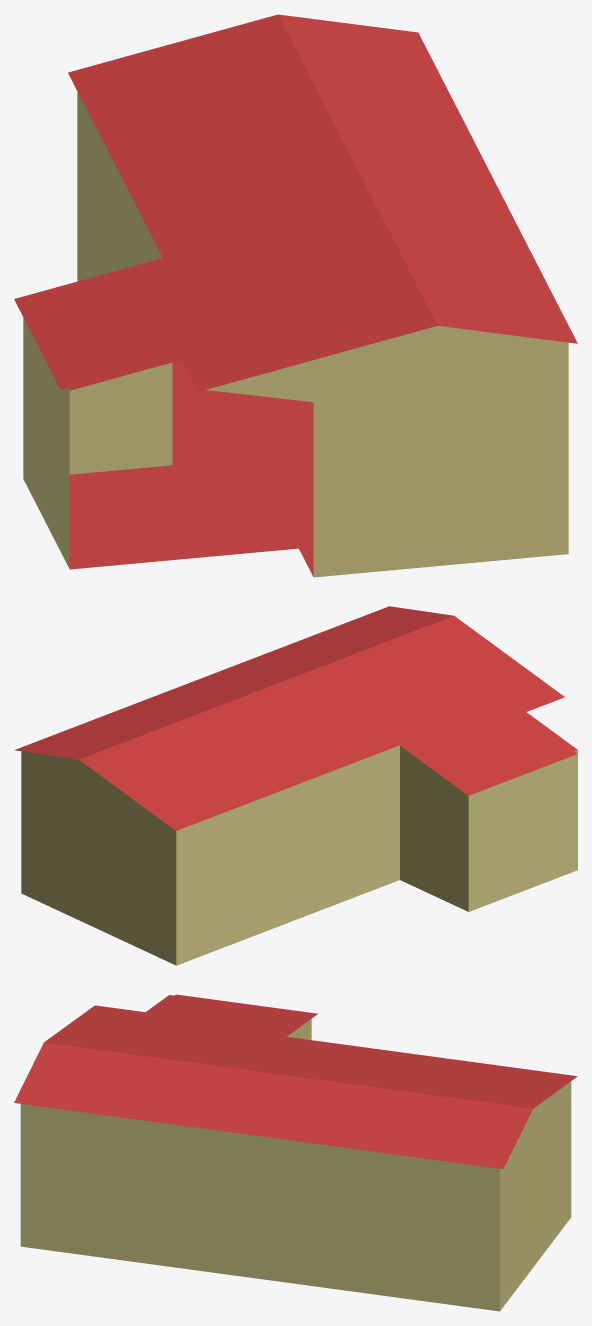
The picture shows the model from 3 angles, top to bottom: view 1: azimuth 30°, elevation 25°; view 2: azimuth 150°, elevation 25°; view 3: azimuth 270°, elevation 25°; orthographic projection. The views are drawn at different scales.
Size of the model in its own units: 22.01 by 26.37 by 8.57.
